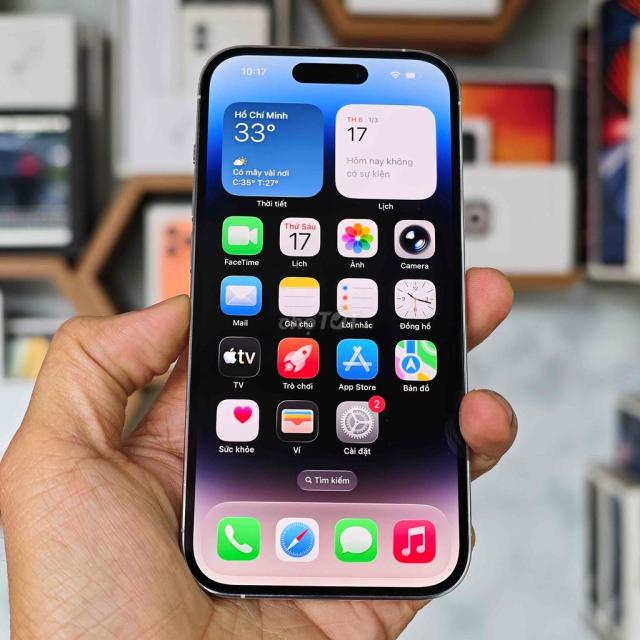gen_14: (175, 39, 476, 606)
